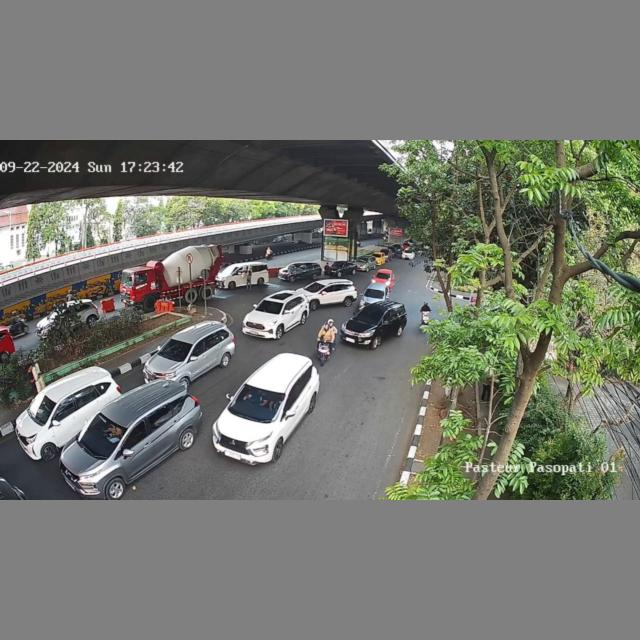windshield: (76, 411, 129, 454), (228, 385, 284, 418), (26, 395, 57, 421), (159, 338, 193, 361), (354, 306, 385, 324), (254, 299, 284, 315)
